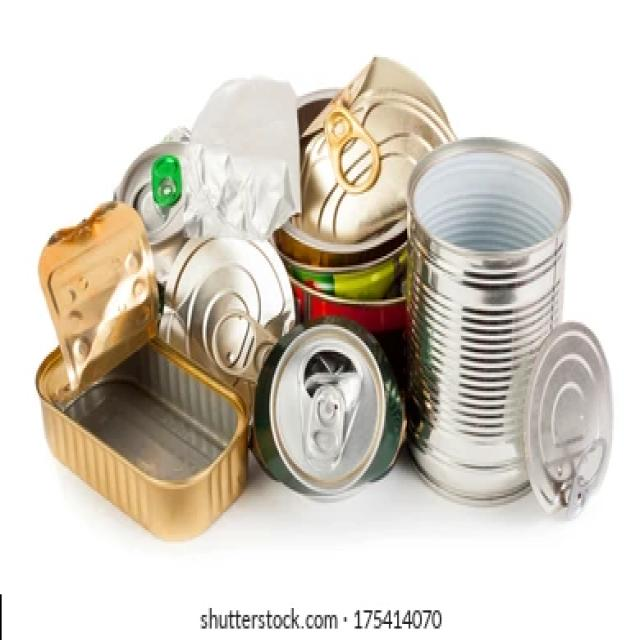Dry Waste: (398, 129, 620, 526), (26, 196, 256, 540), (230, 93, 401, 512)
